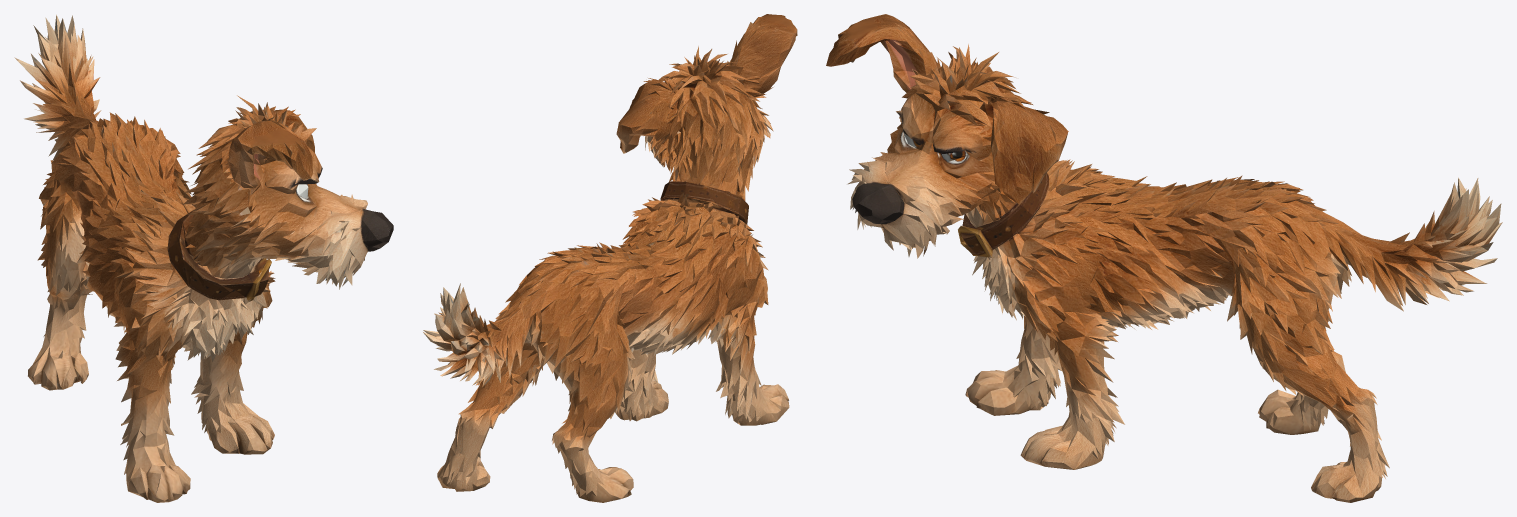
3 renders of one model, left to right at view 1: azimuth 30°, elevation 25°; view 2: azimuth 150°, elevation 25°; view 3: azimuth 270°, elevation 25°, orthographic. The views are drawn at different scales.
Visible parts, largest first — view 1: Mesh_0; view 2: Mesh_0; view 3: Mesh_0.
Part boxes in pixels (x1,y1,x2,y2): Mesh_0: (14,14,393,502); Mesh_0: (423,14,797,502); Mesh_0: (826,14,1502,502).
Bounding box in the file's own units: 0.7629 × 1.27 × 1.9.
1 material, 1 textured.
